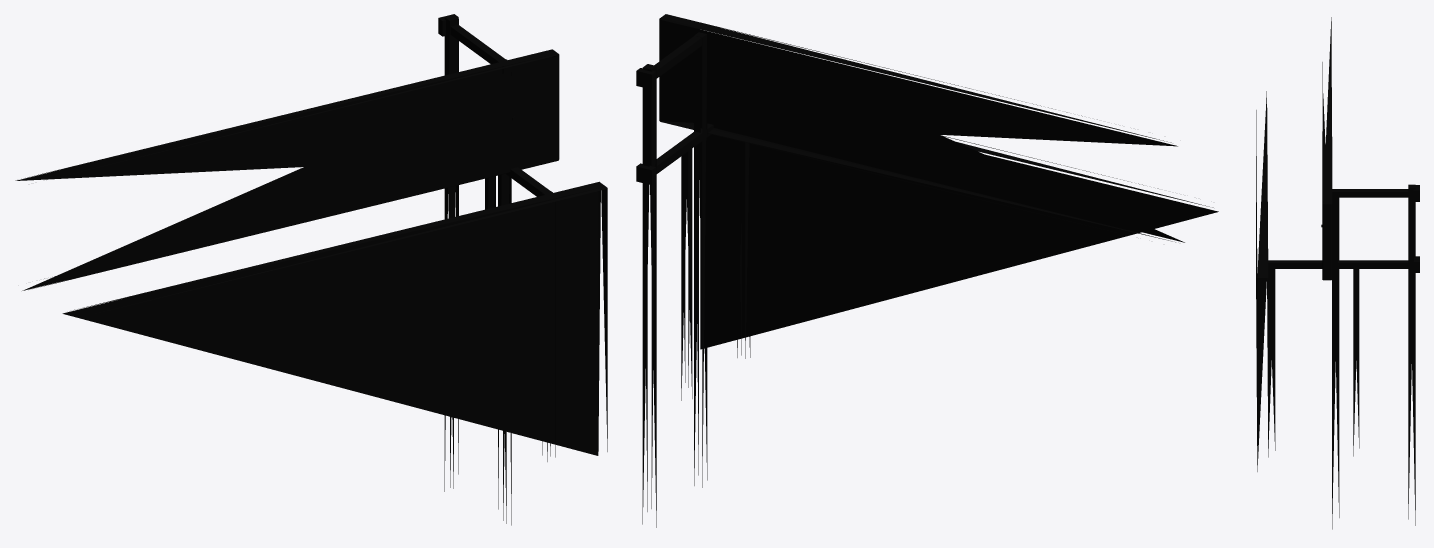
3 views of the same model, side by side, from view 1: azimuth 30°, elevation 25°; view 2: azimuth 150°, elevation 25°; view 3: azimuth 270°, elevation 25° (orthographic). The views are drawn at different scales.
Bounding box in the file's own units: 2.01 × 1.7 × 0.73.
